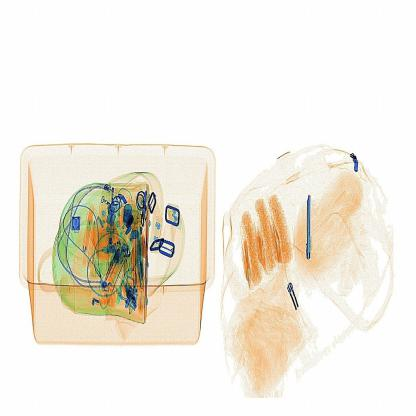pliers: (298, 185, 324, 262)
